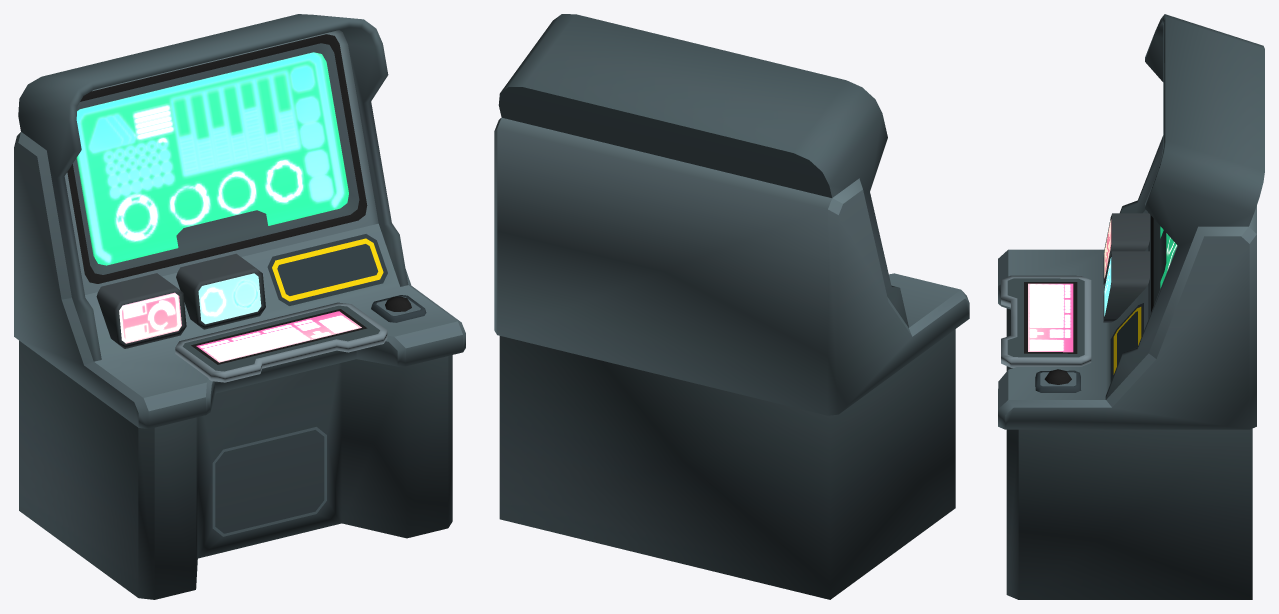
Rendered from Terminal_015.glb.
3 renders of one model, left to right at view 1: azimuth 30°, elevation 25°; view 2: azimuth 150°, elevation 25°; view 3: azimuth 270°, elevation 25°, orthographic. The views are drawn at different scales.
Visible parts, largest first — view 1: Terminal_015; view 2: Terminal_015; view 3: Terminal_015.
Part boxes in pixels (<box>): Terminal_015: <box>14,14,465,599</box>; Terminal_015: <box>494,14,969,599</box>; Terminal_015: <box>998,14,1264,599</box>.
Bounding box in the file's own units: 1.26 × 1.67 × 0.9072.
Materials: 3 (2 with a texture image).
